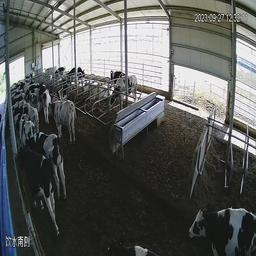cow: (165, 193, 255, 256), (16, 140, 65, 223), (27, 129, 67, 200), (45, 99, 77, 145), (107, 73, 139, 113), (51, 82, 68, 106), (41, 85, 50, 125), (53, 64, 67, 83), (66, 64, 78, 82), (79, 63, 90, 81)
